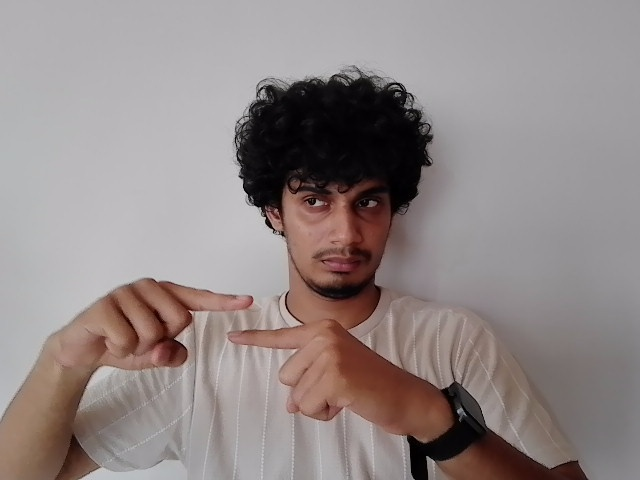about: (42, 278, 437, 440)
